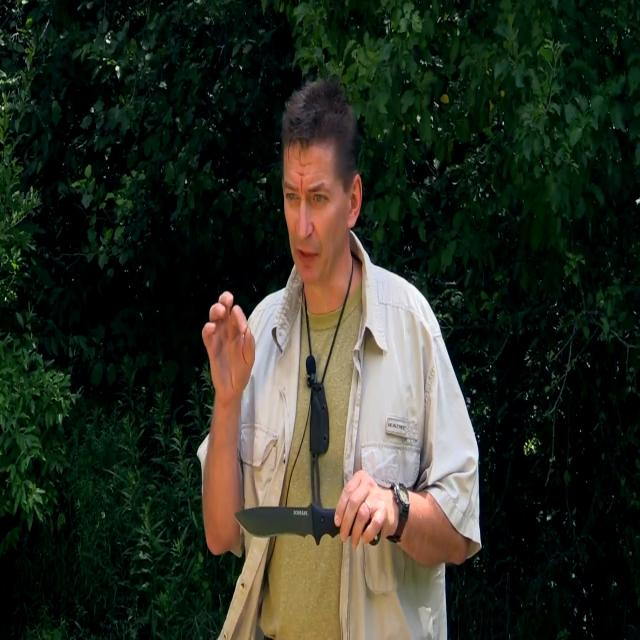knife: (232, 500, 338, 550)
